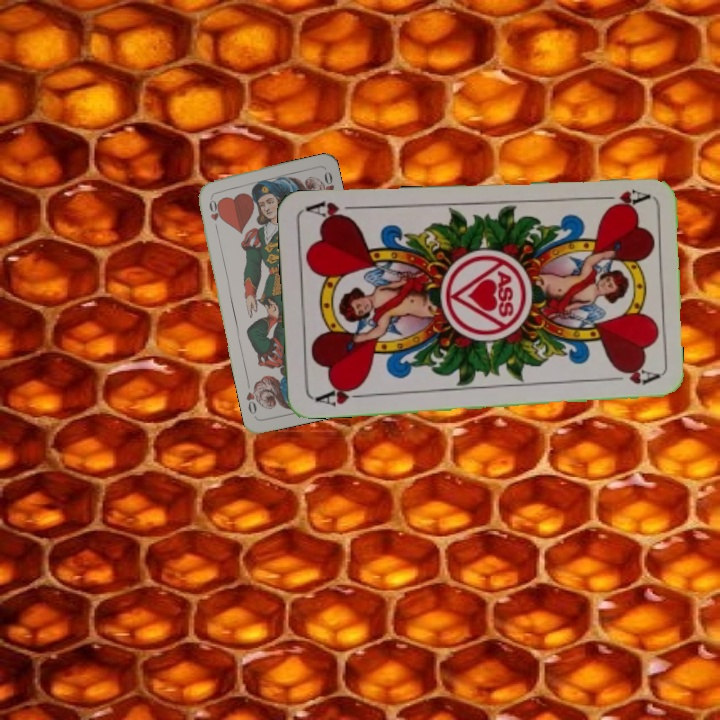HA: (592, 185, 651, 213), (311, 381, 368, 409)
HO: (205, 193, 221, 234)
